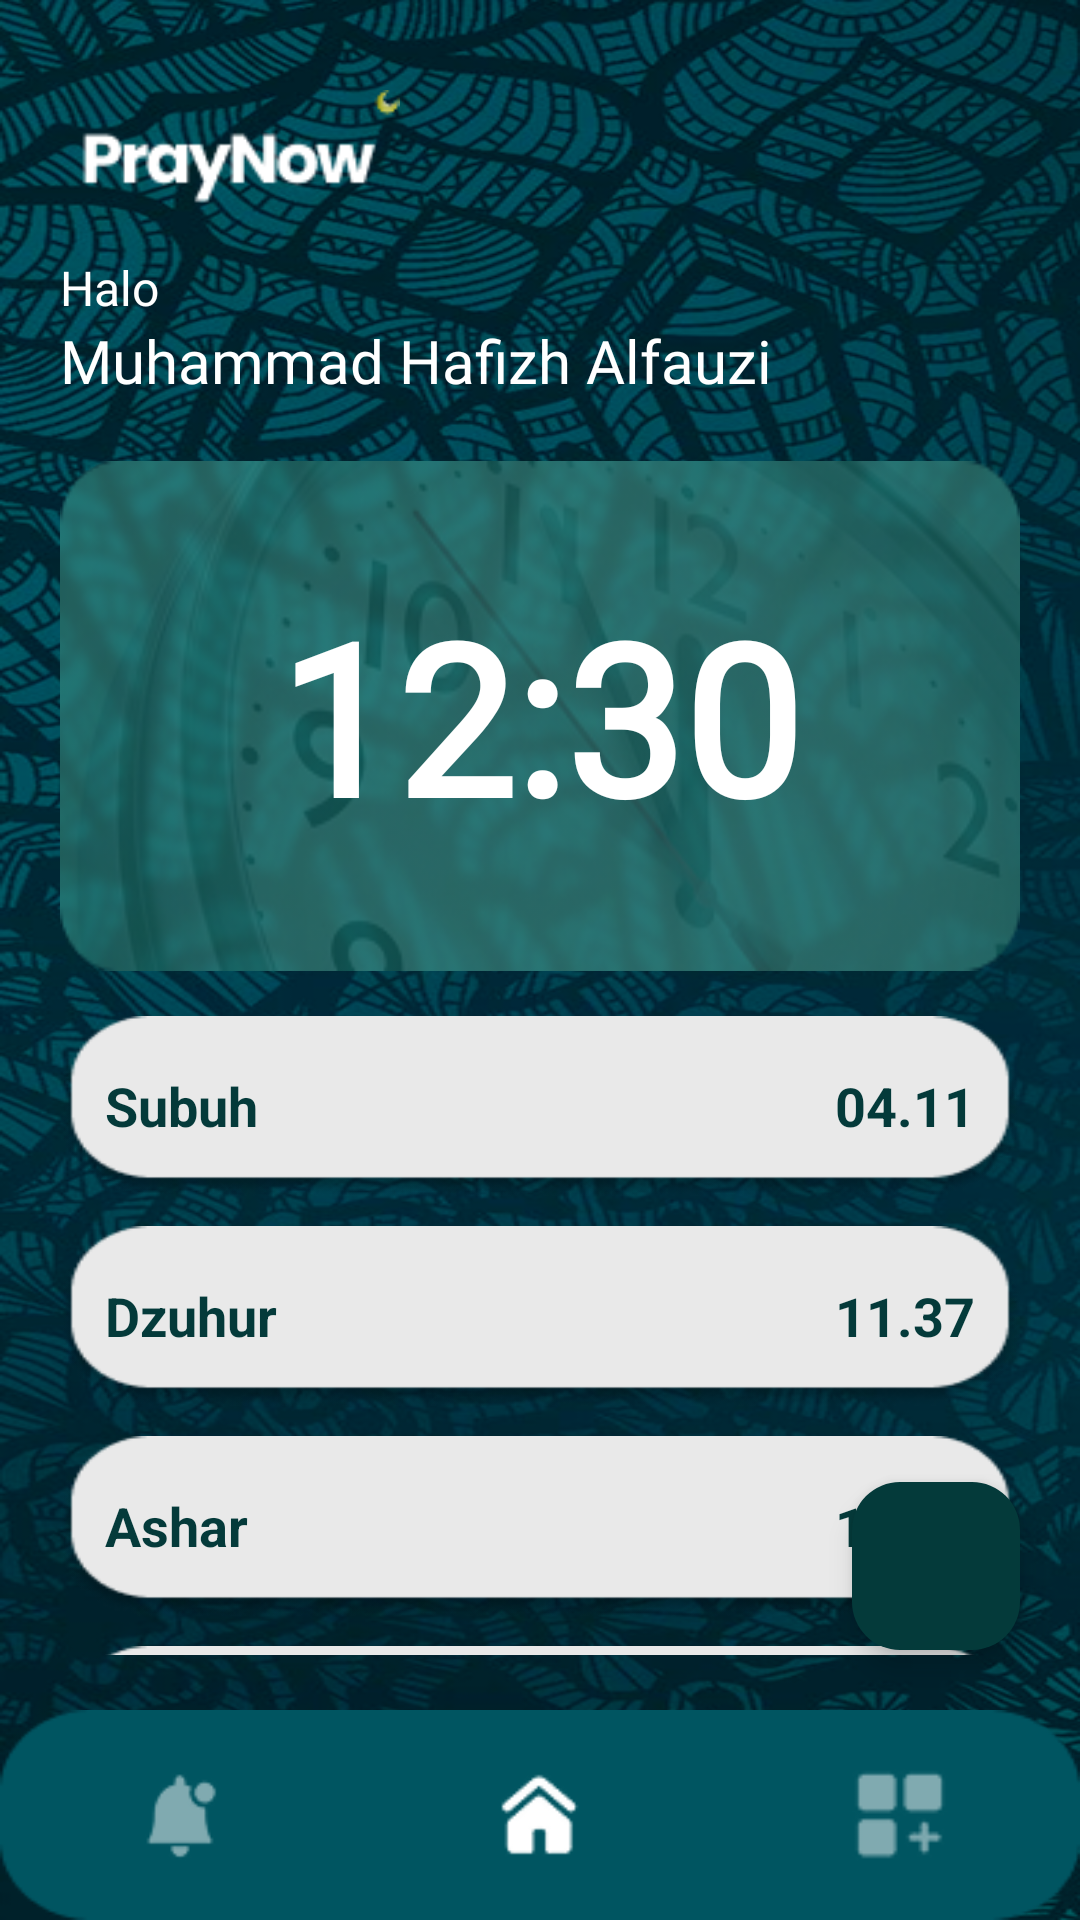

Where icons sit on this 1080px x 1920px app screen, as (x1, y1, x2, y2):
alarmg: (147, 1775, 216, 1857)
home: (501, 1775, 578, 1855)
